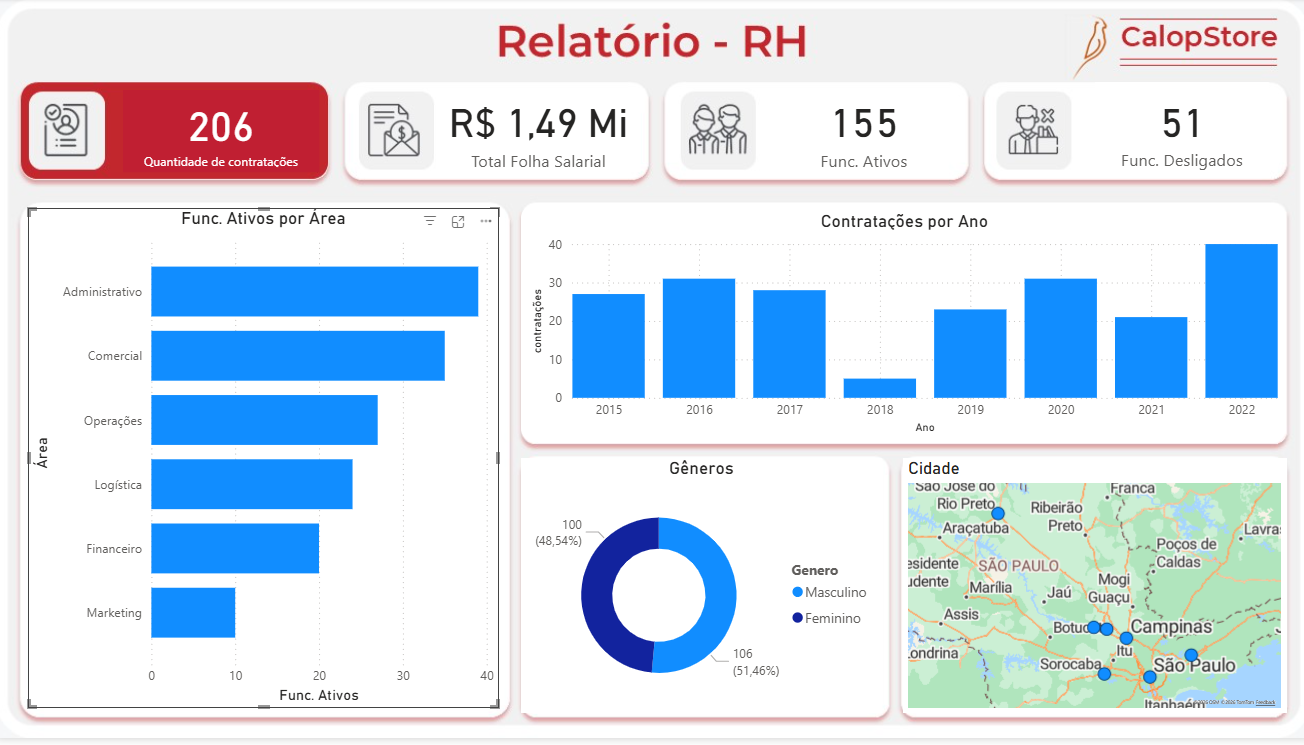

What the dashboard file says about the page in this screenshot:
{"tool":"powerbi","page":{"name":"Página 1","canvas":[1280,720],"ordinal":0},"visuals":[{"type":"card","fields":{"Values":["Plan1.nome sobrenome.1"]},"box":[124.5,89.5,190.6,79.8],"z":0},{"type":"card","fields":{"Values":["BaseFuncionarios.func. Ativos"]},"box":[775.2,87.5,140.1,81.7],"z":1000},{"type":"card","fields":{"Values":["BaseFuncionarios.Func. Desligados"]},"box":[1069.9,81.7,169.2,92.4],"z":2000},{"type":"card","fields":{"Values":["BaseFuncionarios.Total Folha Salarial"]},"box":[428.9,87.5,199.4,81.7],"z":3000},{"type":"donutChart","title":"Gêneros","fields":{"Y":["BaseFuncionarios.Genero"],"Category":["BaseFuncionarios.Genero"]},"box":[511.6,447.4,351.1,248],"z":4000},{"type":"azureMap","fields":{"Category":["BaseFuncionarios.Cidade"]},"box":[883.2,447.4,372.5,248],"z":5000},{"type":"clusteredColumnChart","title":"Contratações por Ano","fields":{"Category":["BaseFuncionarios.Data de Contratacao.Variation.Hierarquia de datas.Ano"],"Y":["BaseFuncionarios.Data de Contratacao"]},"box":[511.6,201.3,744.1,229.5],"z":6000},{"type":"clusteredBarChart","fields":{"Category":["BaseFuncionarios.Área"],"Y":["BaseFuncionarios.Func. Ativos"]},"box":[32.1,204.3,458.1,486.3],"z":7000}]}

Visuals, with their boxes in screenshot pixels (x1, y1, x2, y2), scaled from the page's 1280x720 canvas onto the 1304x745 screenshot:
card - Plan1.nome sobrenome.1: [127, 93, 321, 175]
card - BaseFuncionarios.func. Ativos: [790, 91, 932, 175]
card - BaseFuncionarios.Func. Desligados: [1090, 85, 1262, 180]
card - BaseFuncionarios.Total Folha Salarial: [437, 91, 640, 175]
"Gêneros" donutChart: [521, 463, 879, 720]
azureMap - BaseFuncionarios.Cidade: [900, 463, 1279, 720]
"Contratações por Ano" clusteredColumnChart: [521, 208, 1279, 446]
clusteredBarChart - BaseFuncionarios.Área x BaseFuncionarios.Func. Ativos: [33, 211, 499, 715]
